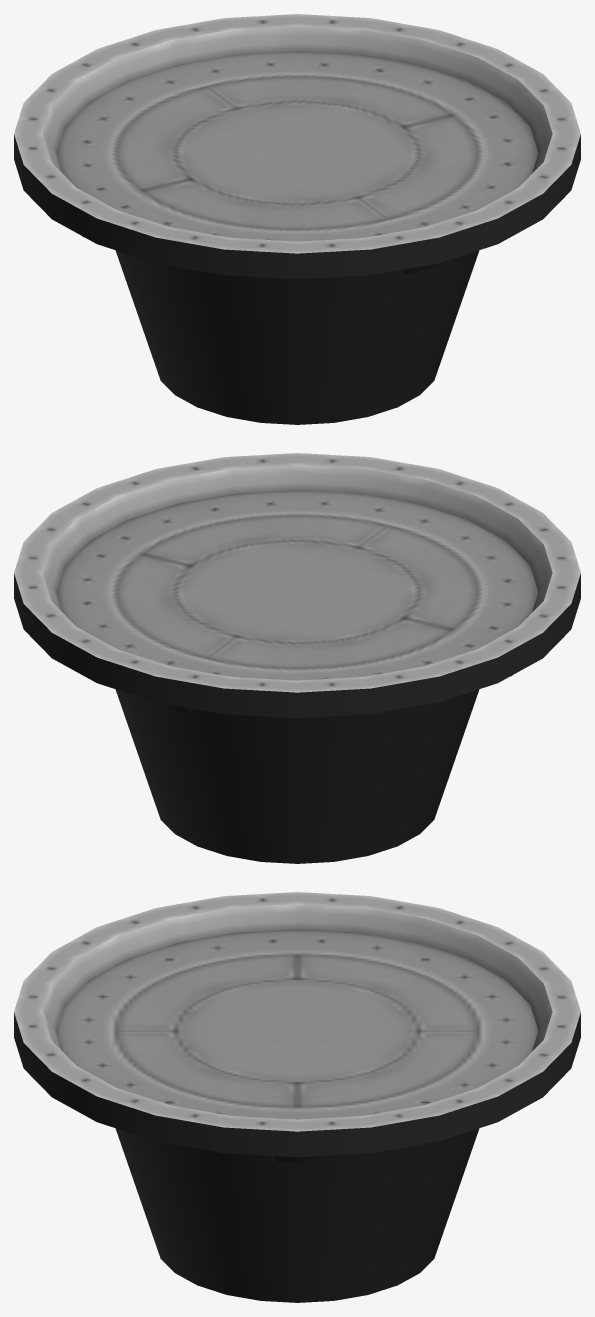
File: CLV_2_Engine_1.obj
3 views of the same model, one above another, from view 1: azimuth 30°, elevation 25°; view 2: azimuth 150°, elevation 25°; view 3: azimuth 270°, elevation 25° (orthographic).
Visible parts, largest first — view 1: CLV_2_Engine_1; view 2: CLV_2_Engine_1; view 3: CLV_2_Engine_1.
Part boxes in pixels (bbox=[...]): CLV_2_Engine_1: bbox=[14, 14, 580, 424]; CLV_2_Engine_1: bbox=[14, 453, 580, 863]; CLV_2_Engine_1: bbox=[14, 892, 580, 1302].
Bounding box in the file's own units: 1.25 × 0.5625 × 1.25.
